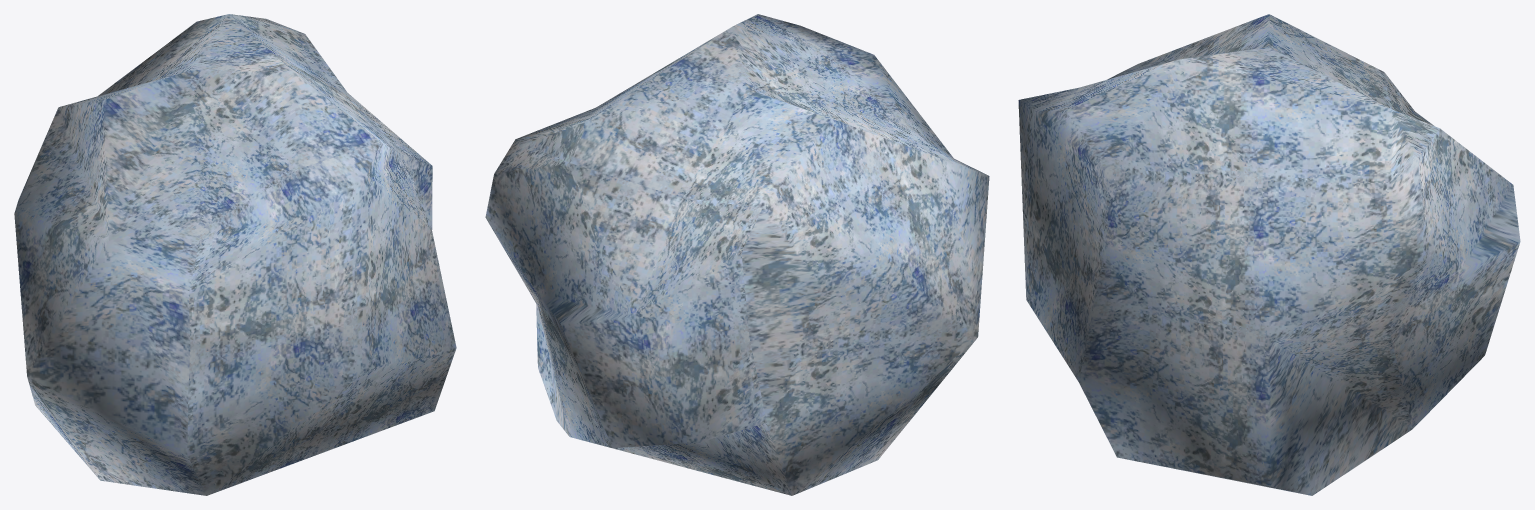
The model's file is asteroid_ice_large_s01_l3.fbx.
The picture shows the model from 3 angles, left to right: view 1: azimuth 30°, elevation 25°; view 2: azimuth 150°, elevation 25°; view 3: azimuth 270°, elevation 25°; orthographic projection. The views are drawn at different scales.
Visible parts, largest first — view 1: mesh_node; view 2: mesh_node; view 3: mesh_node.
Part boxes in pixels (x1,y1,x2,y2): mesh_node: (14, 14, 456, 495); mesh_node: (485, 14, 989, 495); mesh_node: (1018, 14, 1520, 495).
Size of the model in its own units: 134 by 120 by 140.
